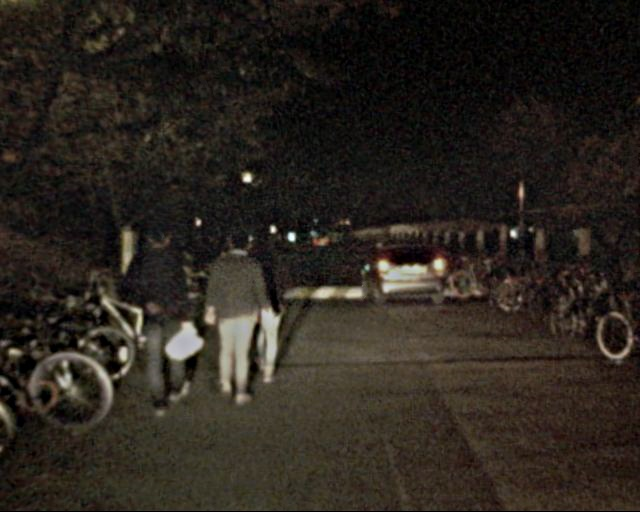person: (120, 217, 199, 413), (198, 232, 270, 408), (230, 228, 292, 382)
